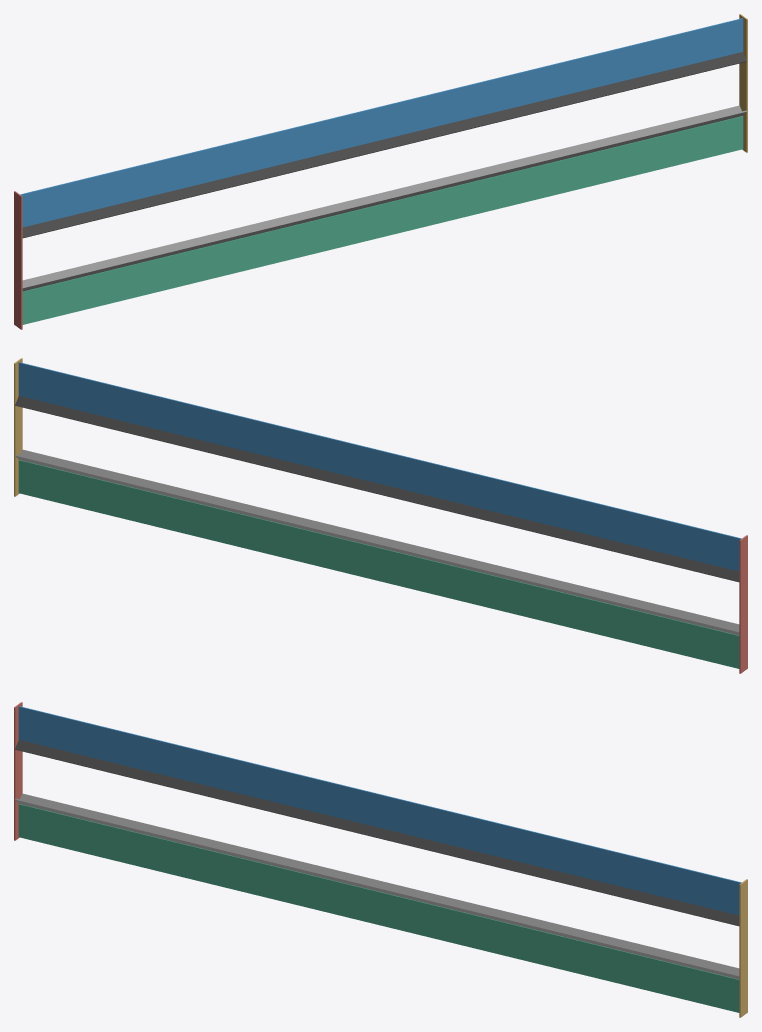
The model's file is latest.glb.
3 renders of one model, top to bottom at view 1: azimuth 30°, elevation 25°; view 2: azimuth 150°, elevation 25°; view 3: azimuth 330°, elevation 25°, orthographic.
Visible parts, largest first — view 1: plate_G, plate_V, angle_B, angle_A, plate_D2_left, plate_D1_right; view 2: plate_G, plate_V, angle_B, angle_A, plate_D2_left, plate_D1_right; view 3: plate_G, plate_V, angle_B, angle_A, plate_D1_right, plate_D2_left.
Part boxes in pixels (<box>): plate_G: <box>20,18,743,227</box>; plate_V: <box>22,116,743,324</box>; angle_B: <box>22,105,746,291</box>; angle_A: <box>22,52,746,238</box>; plate_D2_left: <box>14,191,22,329</box>; plate_D1_right: <box>739,14,747,152</box>; plate_G: <box>18,362,741,571</box>; plate_V: <box>18,460,739,668</box>; angle_B: <box>15,449,739,635</box>; angle_A: <box>15,396,739,582</box>; plate_D2_left: <box>739,535,747,673</box>; plate_D1_right: <box>14,358,22,496</box>; plate_G: <box>18,706,741,915</box>; plate_V: <box>18,804,739,1012</box>; angle_B: <box>15,793,739,979</box>; angle_A: <box>15,740,739,926</box>; plate_D1_right: <box>739,879,747,1017</box>; plate_D2_left: <box>14,702,22,840</box>.
Size of the model in its own units: 1150 by 201 by 21.21.
